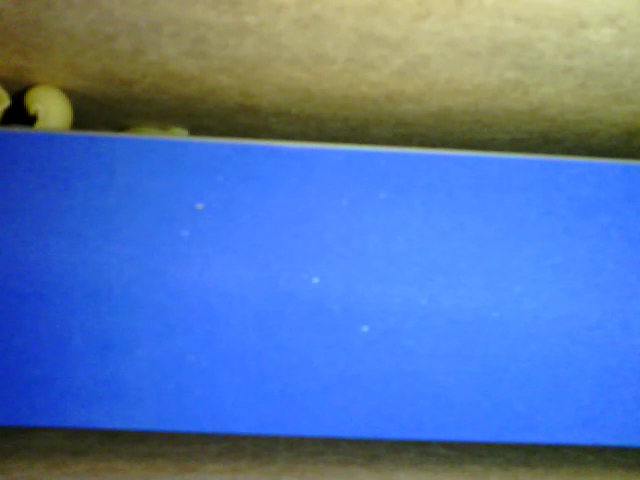shell: (24, 82, 75, 135)
